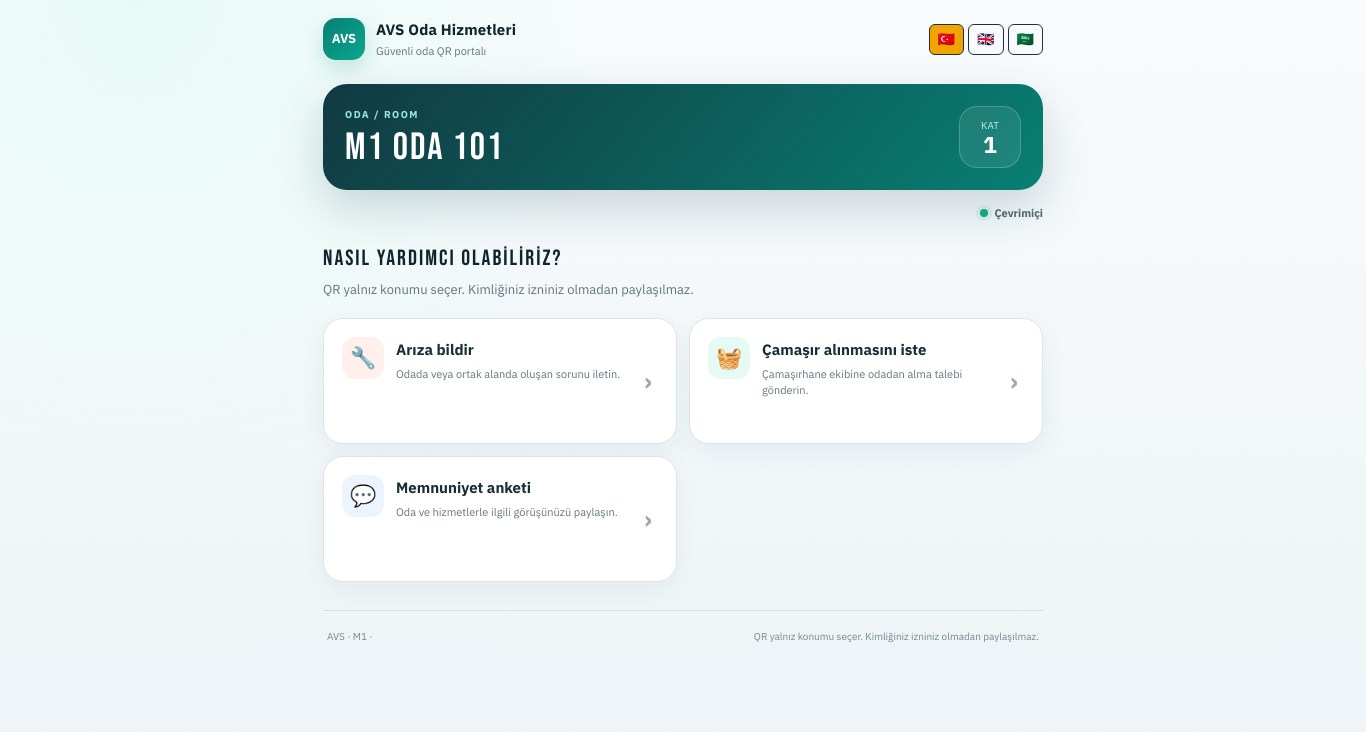
Test: RoomPortalPage › anonim arıza formunu multipart gönderir ve sunucu makbuzunu gösterir
The width and height of the screenshot is (1366, 732).
Click the button "Arıza bildir" at (500, 380), box [323,318,677,444]
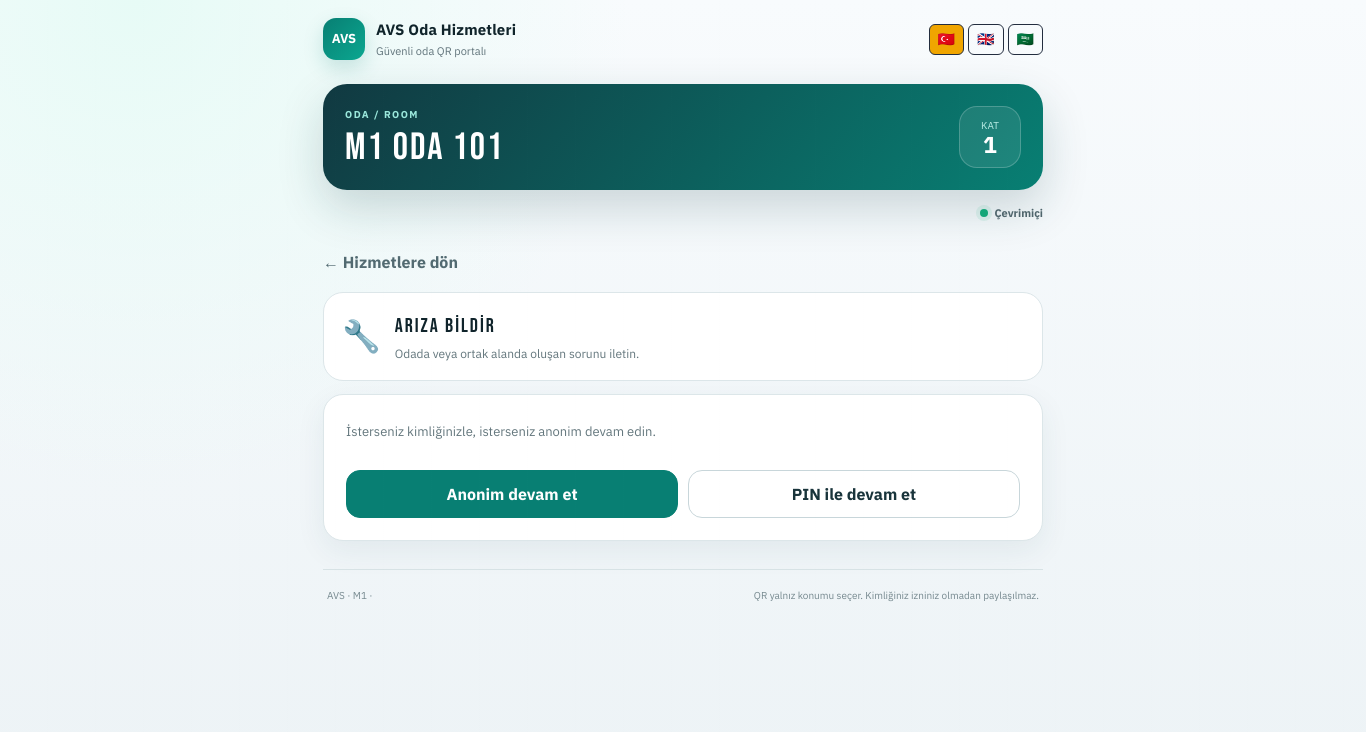
Click the button "Anonim devam et" at (512, 494), box [346,470,678,518]
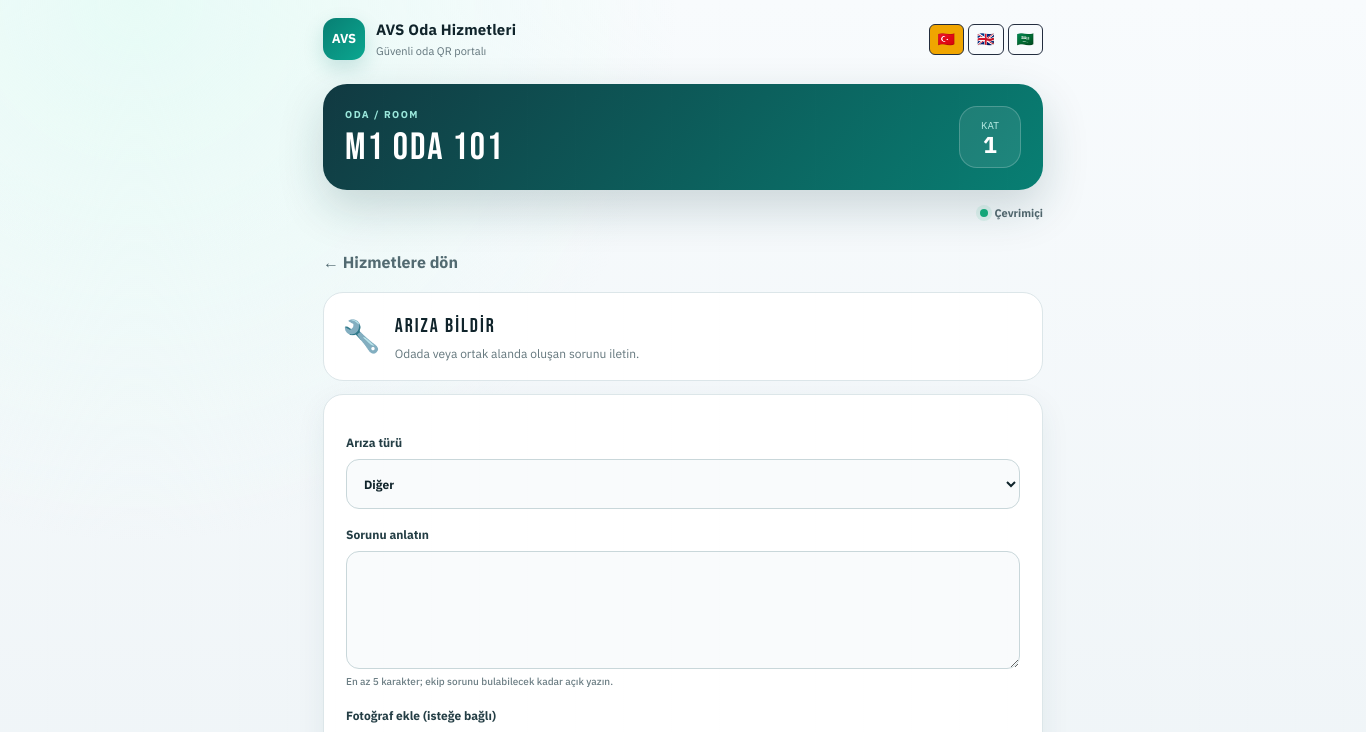
Type "Lavabo su kaçırıyor" into the text box labelled "Sorunu anlatın" at (683, 610), box [346,551,1020,669]
(page scrolled)
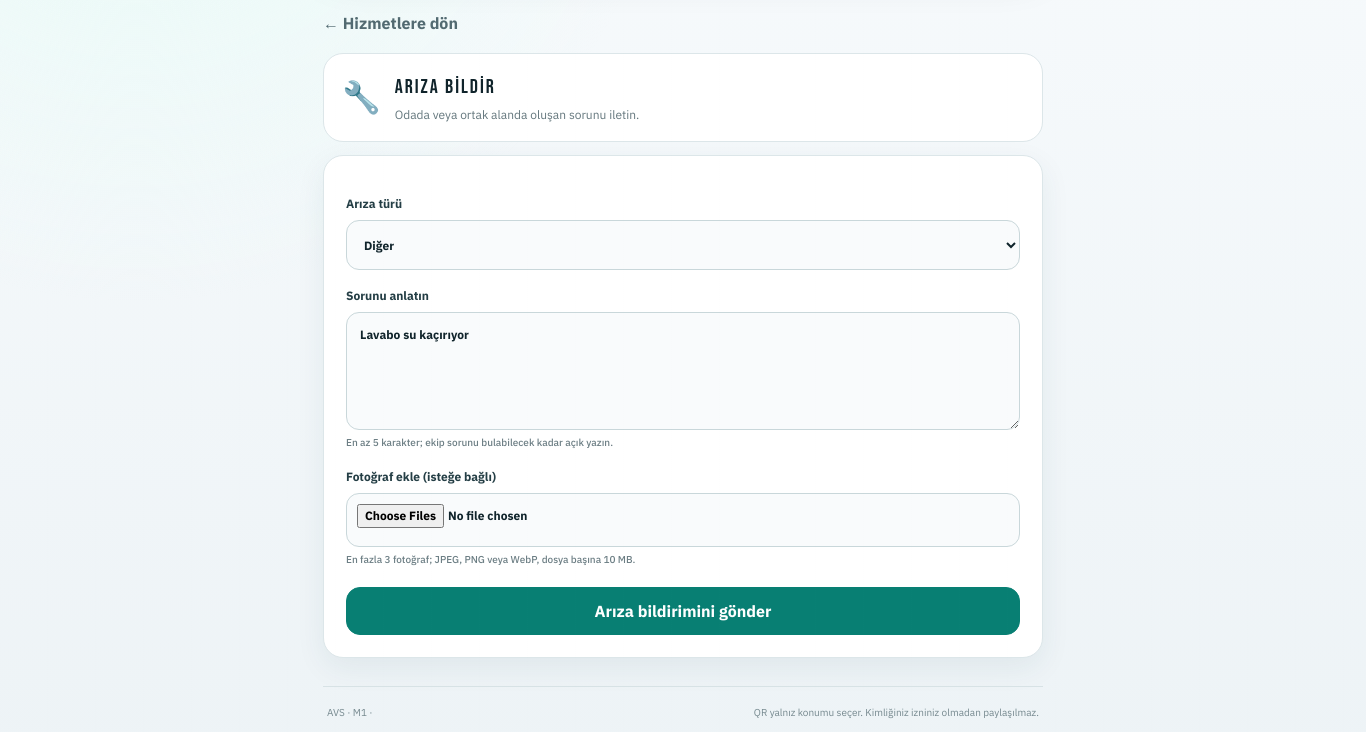
Click the button "Arıza bildirimini gönder" at (683, 611), box [346,587,1020,635]
(page scrolled)
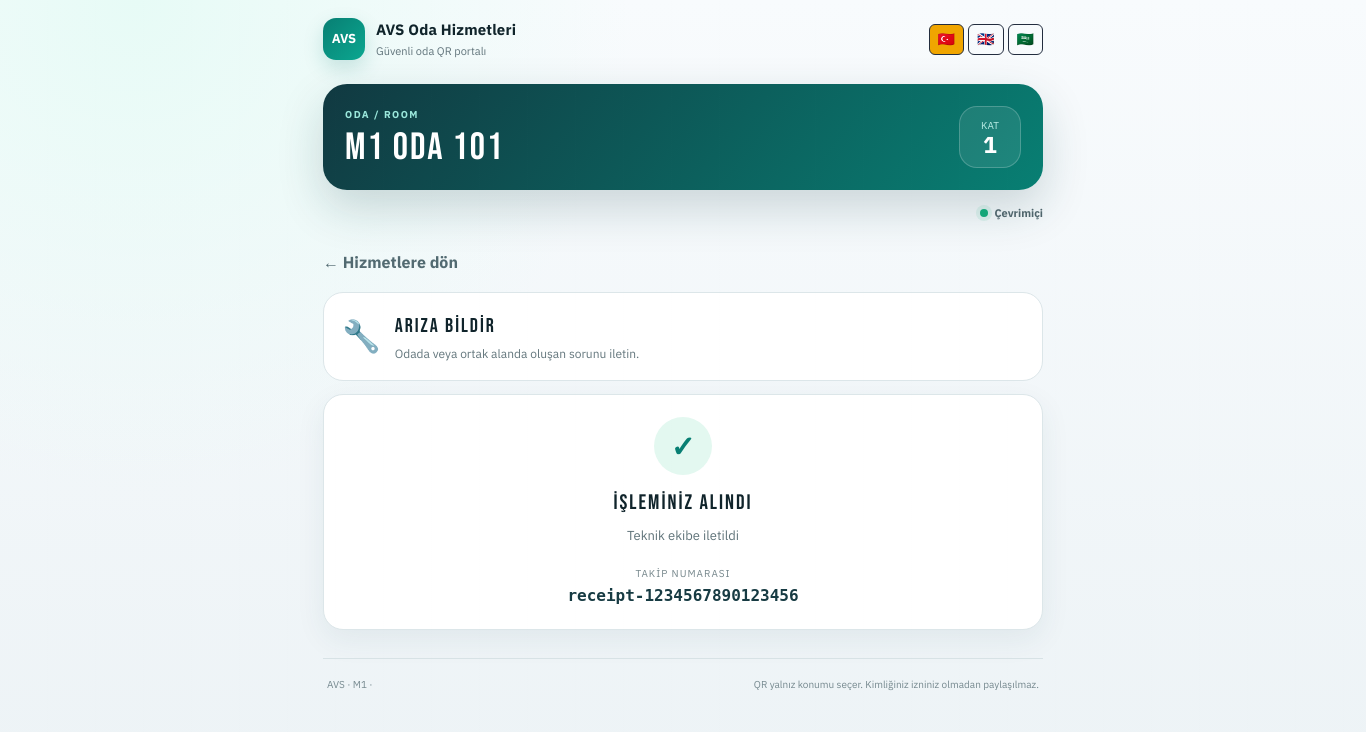
expect the text "receipt-1234567890123456" is shown: met, box [567,586,799,605]
